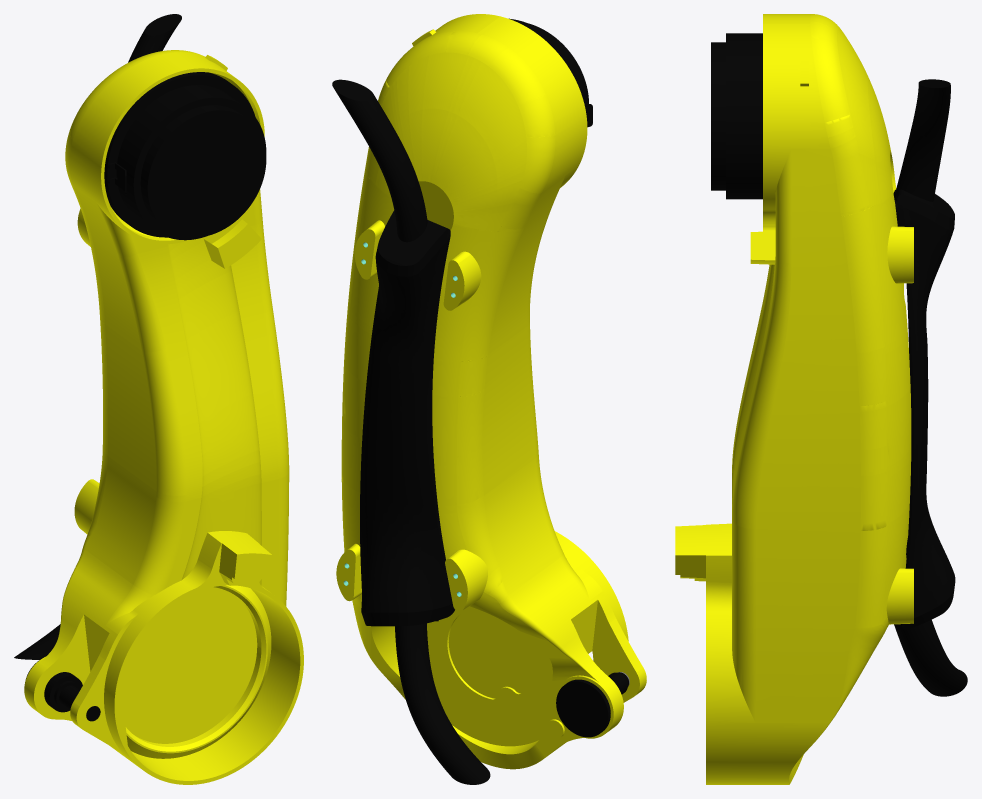
The picture shows the model from 3 angles, left to right: view 1: azimuth 30°, elevation 25°; view 2: azimuth 150°, elevation 25°; view 3: azimuth 270°, elevation 25°; orthographic projection. The views are drawn at different scales.
Visible parts, largest first — view 1: Mesh_0; view 2: Mesh_0; view 3: Mesh_0.
Part boxes in pixels (left/top/right/bottom): Mesh_0: left=14, top=14, right=303, bottom=784; Mesh_0: left=332, top=14, right=646, bottom=784; Mesh_0: left=675, top=14, right=967, bottom=784.
Bounding box in the file's own units: 0.5156 × 0.5181 × 1.47.
